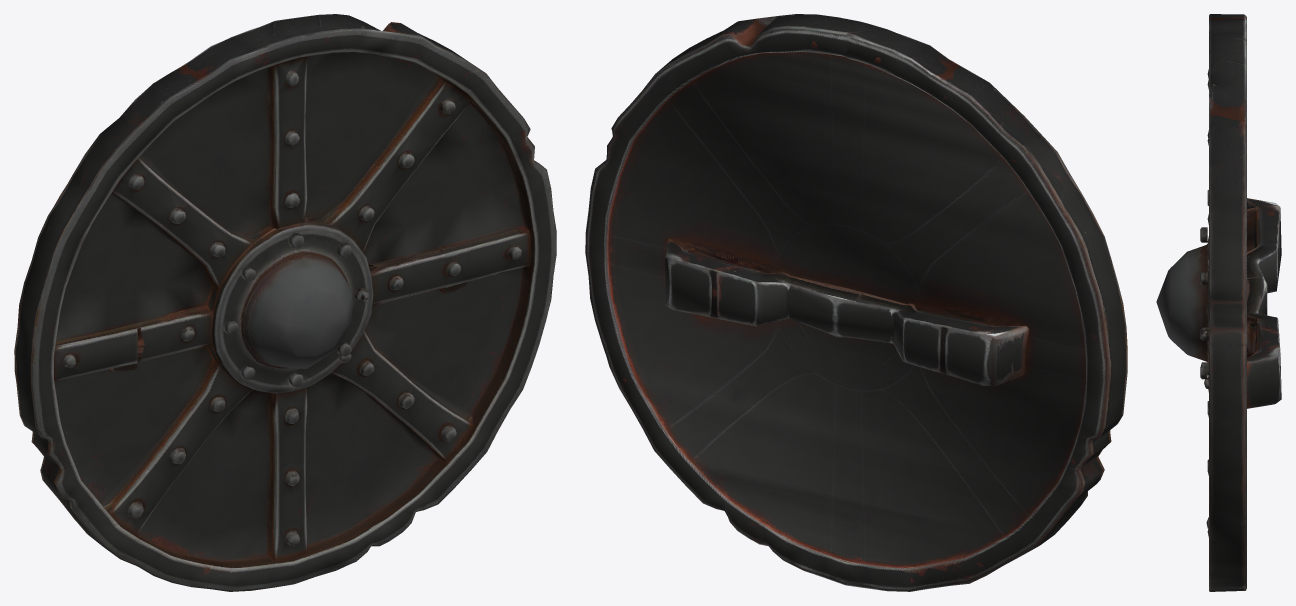
Rendered from shield_round_1h.glb.
The picture shows the model from 3 angles, left to right: view 1: azimuth 30°, elevation 25°; view 2: azimuth 150°, elevation 25°; view 3: azimuth 270°, elevation 25°; orthographic projection. The views are drawn at different scales.
Bounding box in the file's own units: 1.89 × 1.91 × 0.411.
1 material, 1 textured.
